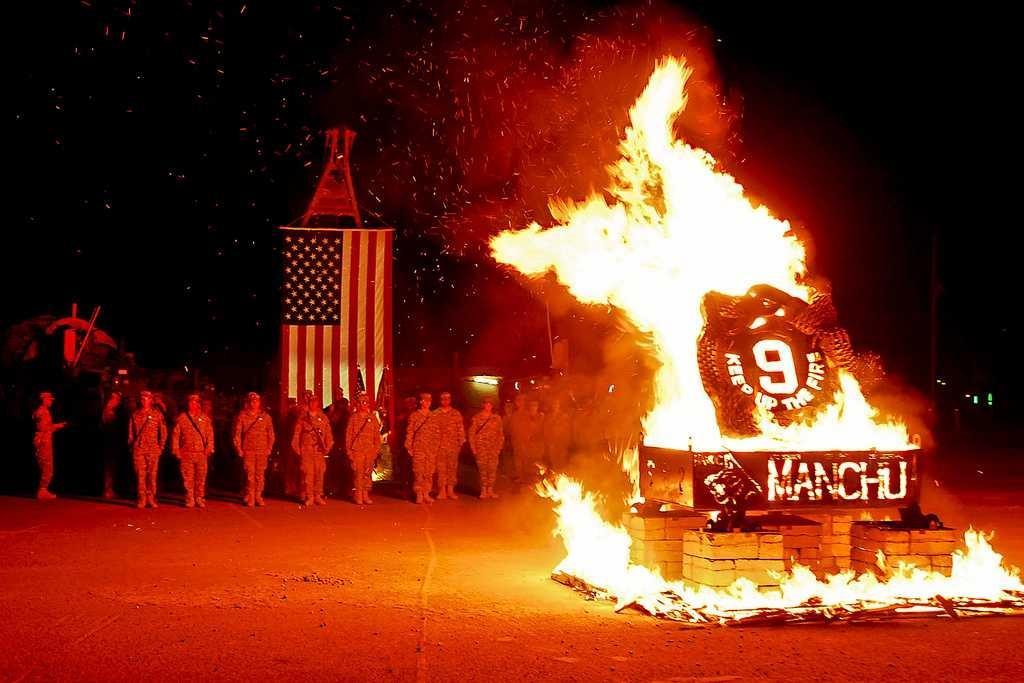fire: (580, 193, 752, 293), (770, 567, 1012, 602), (647, 307, 702, 445), (557, 508, 633, 582)
